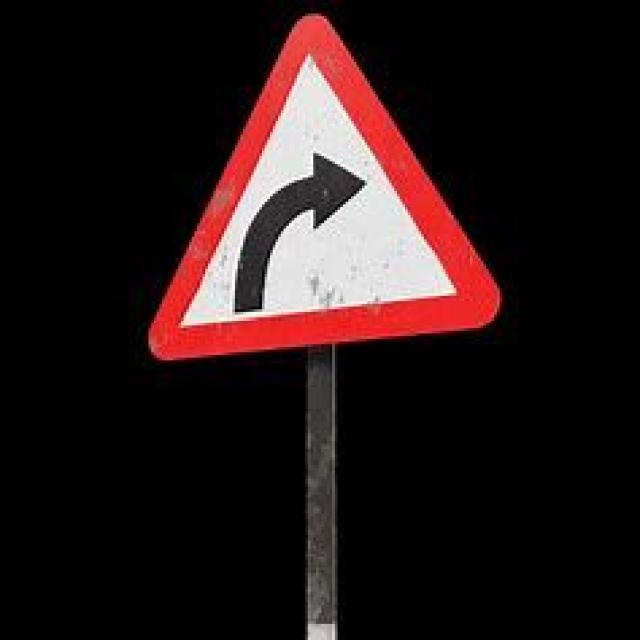right hand curve: (140, 18, 502, 359)
